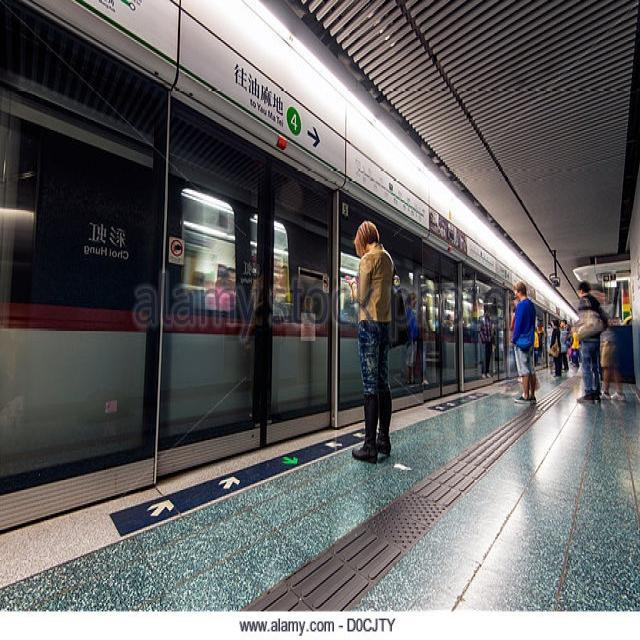body: (343, 217, 396, 466), (404, 270, 504, 394), (573, 276, 609, 406), (211, 259, 293, 310), (508, 280, 537, 409), (597, 287, 628, 403), (507, 283, 535, 403), (337, 274, 357, 319), (559, 316, 573, 376), (549, 316, 562, 380), (536, 313, 549, 370), (570, 326, 580, 370)
